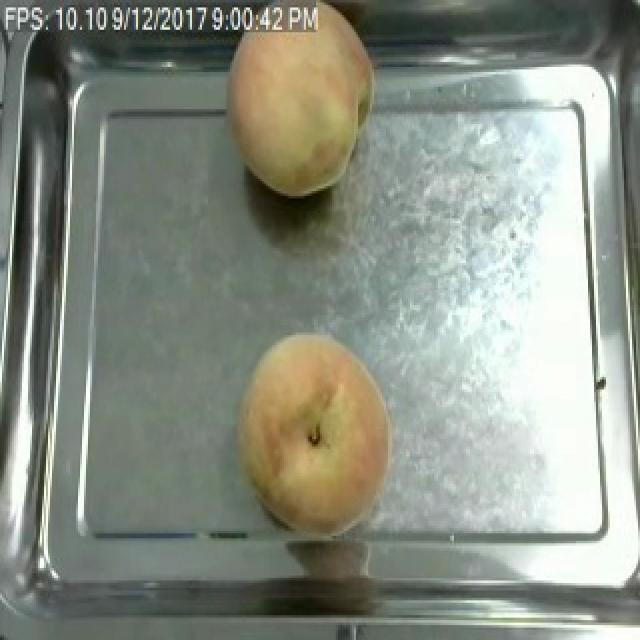Fruit: (228, 325, 402, 538), (218, 2, 376, 206)
